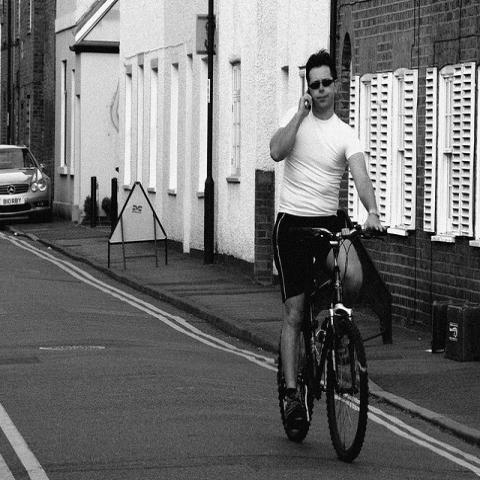car: (0, 148, 52, 218)
